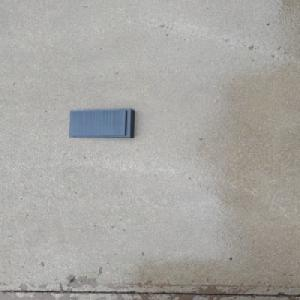PlasticPart: (67, 107, 136, 139)
